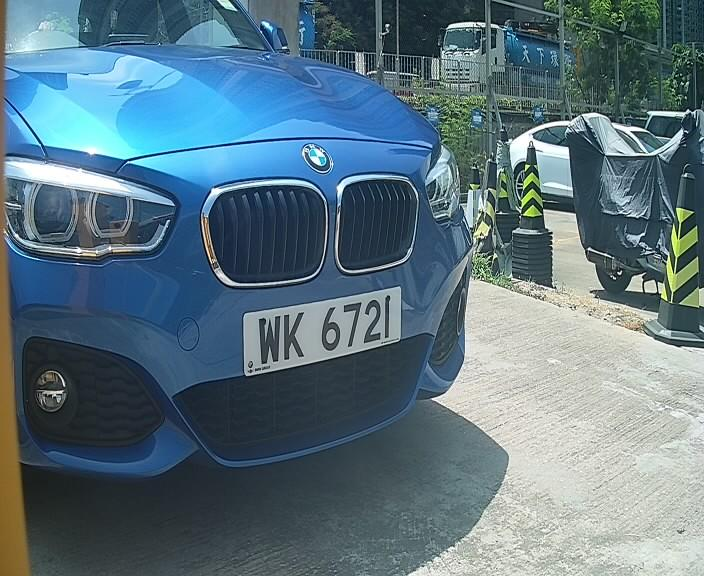License Plate: (233, 281, 397, 381)
